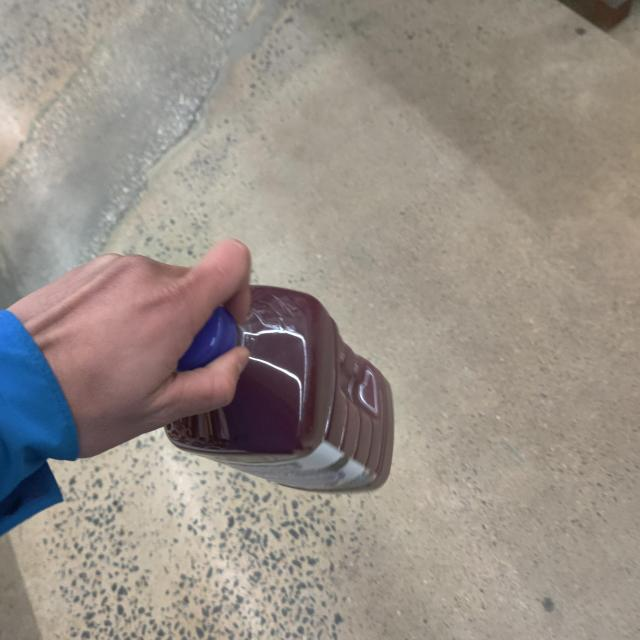Juice: (135, 263, 413, 507)
